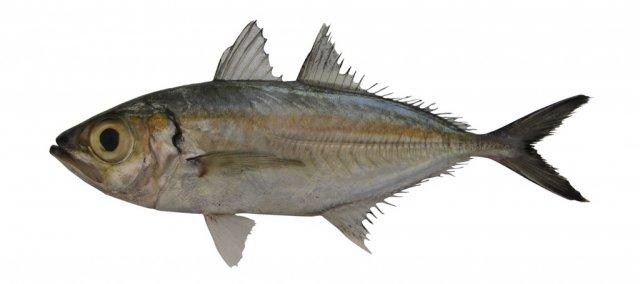Mulut: (46, 129, 96, 187)
Sirip Anal: (328, 158, 482, 262)
Sirip Dada: (190, 144, 308, 186)
Sirip Ekor: (487, 86, 597, 208)
Sirip Perut: (202, 205, 260, 275)
Sirip Punggung: (212, 14, 470, 130)
